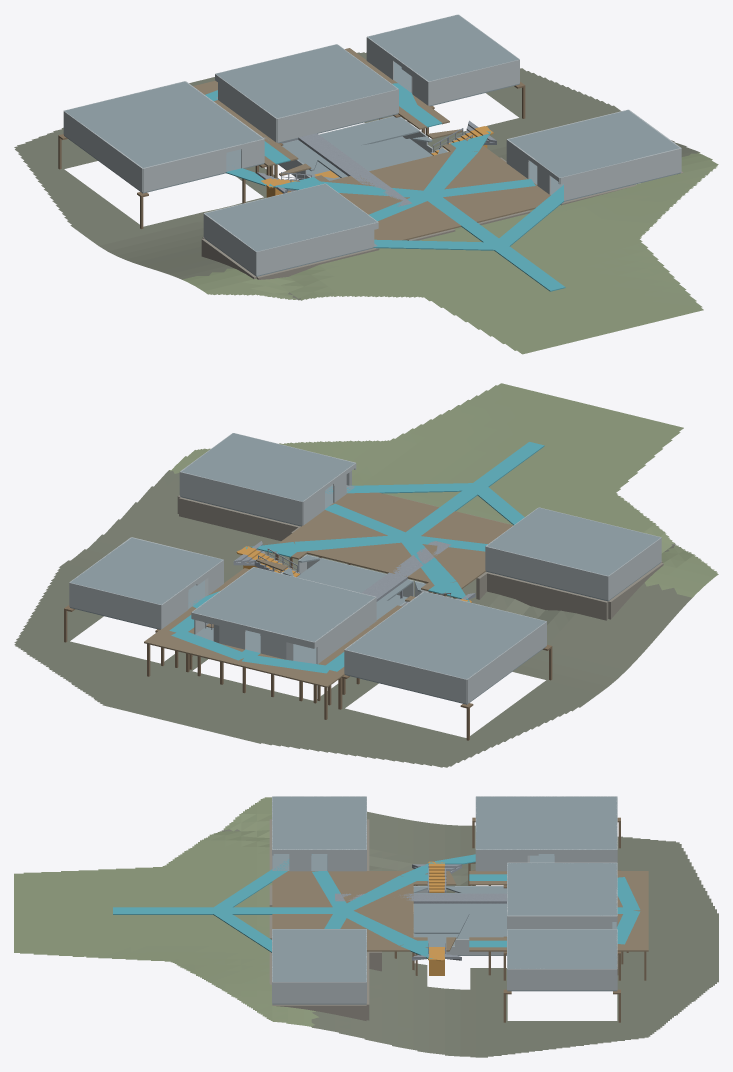
The model's file is finished-ends.glb.
The picture shows the model from 3 angles, top to bottom: view 1: azimuth 30°, elevation 25°; view 2: azimuth 150°, elevation 25°; view 3: azimuth 270°, elevation 25°; orthographic projection. The views are drawn at different scales.
Visible parts, largest first — view 1: Saved editor macroterrain WLD-06, Ceiling cap boathouse, Ceiling cap fish, Ceiling cap cottage-a, Ceiling cap cottage-b, Ceiling cap net, Wall fish S, Flat route shell Wall cottage-a S, Flat route shell Wall cottage-b S, Wall net S, Flat route shell Wall boathouse S, Wall boathouse W (+17 smaller); view 2: Saved editor macroterrain WLD-06, Ceiling cap boathouse, Ceiling cap fish, Ceiling cap cottage-b, Ceiling cap cottage-a, Ceiling cap net, Wall cottage-a N, Wall boathouse N, Wall cottage-b N, Wall net N, Wall boathouse W, Flat route shell Wall fish W (+16 smaller); view 3: Saved editor macroterrain WLD-06, Ceiling cap boathouse, Ceiling cap fish, Ceiling cap cottage-a, Ceiling cap cottage-b, Ceiling cap net, Wall net E, Wall cottage-b E, Flat route shell Wall fish E, Wharf bypass deck 0 region0, Flat route shell Wall boathouse E.001, Re-seated Ceiling cap undercroft.004 (+21 smaller).
Boxes of the visible parts, x1,y1,x2,y2 form: Saved editor macroterrain WLD-06: (14, 52, 718, 354); Ceiling cap boathouse: (64, 81, 263, 167); Ceiling cap fish: (216, 44, 397, 118); Ceiling cap cottage-a: (205, 184, 376, 251); Ceiling cap cottage-b: (508, 110, 679, 177); Ceiling cap net: (368, 15, 518, 81); Wall fish S: (277, 89, 398, 142); Flat route shell Wall cottage-a S: (256, 222, 378, 275); Flat route shell Wall cottage-b S: (560, 148, 681, 200); Wall net S: (428, 59, 519, 105); Flat route shell Wall boathouse S: (143, 148, 226, 192); Wall boathouse W: (63, 111, 142, 192); Saved editor macroterrain WLD-06: (14, 383, 718, 767); Ceiling cap boathouse: (345, 591, 545, 678); Ceiling cap fish: (192, 567, 375, 641); Ceiling cap cottage-b: (181, 433, 354, 501); Ceiling cap cottage-a: (486, 507, 660, 575); Ceiling cap net: (70, 538, 222, 604); Wall cottage-a N: (485, 546, 608, 600); Wall boathouse N: (344, 649, 466, 703); Wall cottage-b N: (180, 471, 302, 525); Wall net N: (69, 582, 161, 628); Wall boathouse W: (467, 621, 546, 703); Flat route shell Wall fish W: (314, 597, 376, 664); Saved editor macroterrain WLD-06: (14, 797, 718, 1057); Ceiling cap boathouse: (476, 796, 617, 849); Ceiling cap fish: (507, 863, 617, 915); Ceiling cap cottage-a: (272, 796, 366, 849); Ceiling cap cottage-b: (272, 929, 366, 981); Ceiling cap net: (507, 929, 617, 968); Wall net E: (507, 968, 617, 990); Wall cottage-b E: (272, 982, 366, 1003); Flat route shell Wall fish E: (507, 915, 617, 928); Wharf bypass deck 0 region0: (335, 893, 506, 903); Flat route shell Wall boathouse E.001: (476, 849, 538, 871); Re-seated Ceiling cap undercroft.004: (469, 913, 506, 937).
Size of the model in its own units: 70 by 7.86 by 90.
35 materials, 13 textured.
